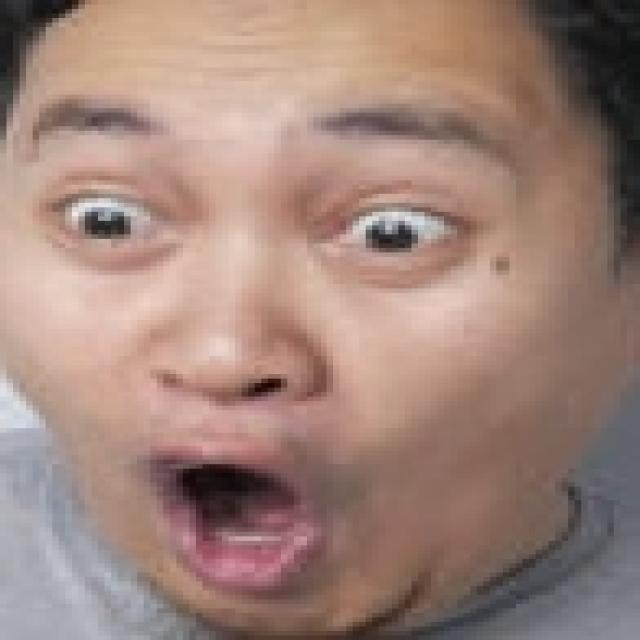Anxiety: (0, 0, 633, 635)
